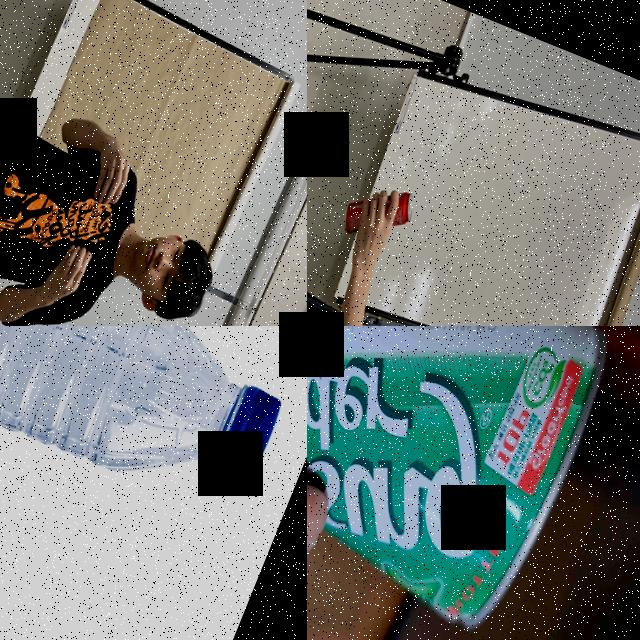bottle: (0, 326, 307, 527)
can: (307, 326, 640, 640), (334, 170, 420, 254)
